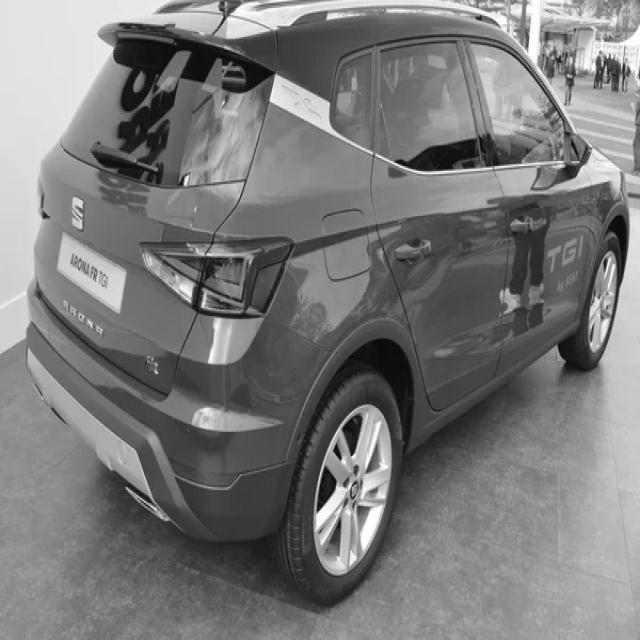Car: (26, 0, 632, 604)
